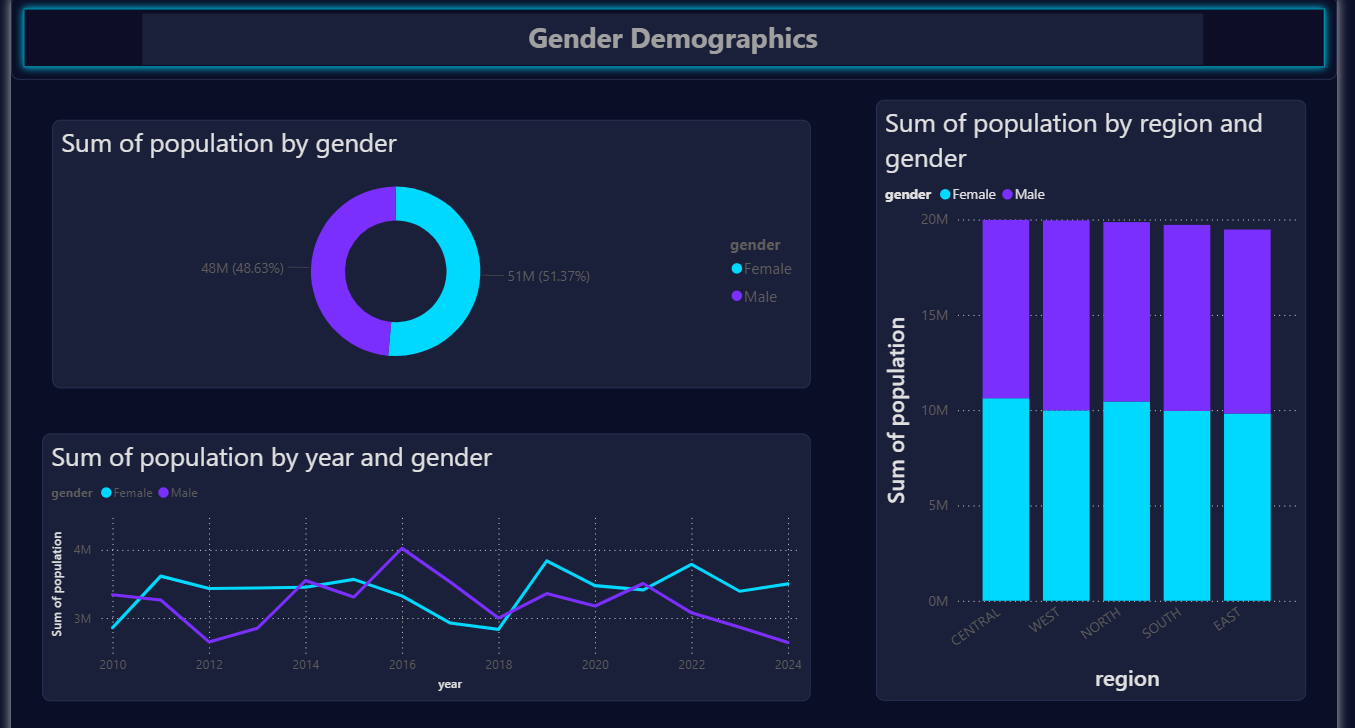

Layout of this report page (visuals, bound fields, positions):
{"tool":"powerbi","page":{"name":"Page 2","canvas":[1280,720],"ordinal":1},"visuals":[{"type":"shape","box":[0,0,1280,80.8],"z":0},{"type":"textbox","box":[126.7,16.9,1024.3,49.5],"z":1000},{"type":"donutChart","fields":{"Category":["gold_gender_distribution.gender"],"Y":["Sum(gold_gender_distribution.population)"]},"box":[39.8,119.4,732.3,259.4],"z":2000},{"type":"columnChart","fields":{"Category":["gold_gender_distribution.region"],"Y":["Sum(gold_gender_distribution.population)"],"Series":["gold_gender_distribution.gender"]},"box":[834.9,100.1,415,580.3],"z":3000},{"type":"lineChart","fields":{"Category":["gold_gender_distribution.year"],"Y":["Sum(gold_gender_distribution.population)"],"Series":["gold_gender_distribution.gender"]},"box":[30.2,422.3,742,258.2],"z":4000}]}

Visuals, with their boxes on the page's 1280x720 design canvas (x1, y1, x2, y2). These are canvas units, not pixel positions in the 1355x728 screenshot, which may show the page scaled, cropped or inside an application window:
shape: <box>0,0,1280,81</box>
textbox: <box>127,17,1151,66</box>
donutChart - gold_gender_distribution.gender x Sum(gold_gender_distribution.population): <box>40,119,772,379</box>
columnChart - gold_gender_distribution.region x Sum(gold_gender_distribution.population): <box>835,100,1250,680</box>
lineChart - gold_gender_distribution.year x Sum(gold_gender_distribution.population): <box>30,422,772,680</box>
